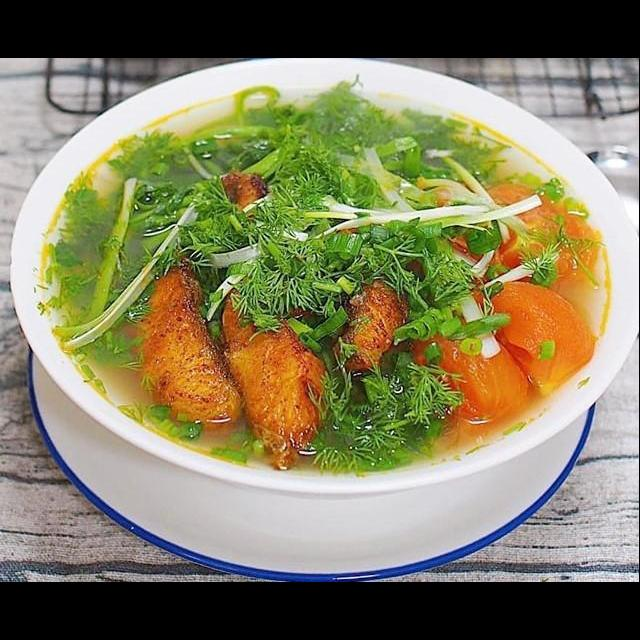ca: (115, 255, 252, 439), (212, 275, 326, 476), (328, 271, 418, 379)
